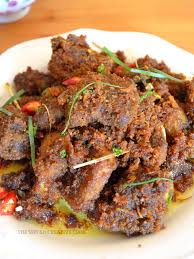rendang: (3, 32, 193, 241)
